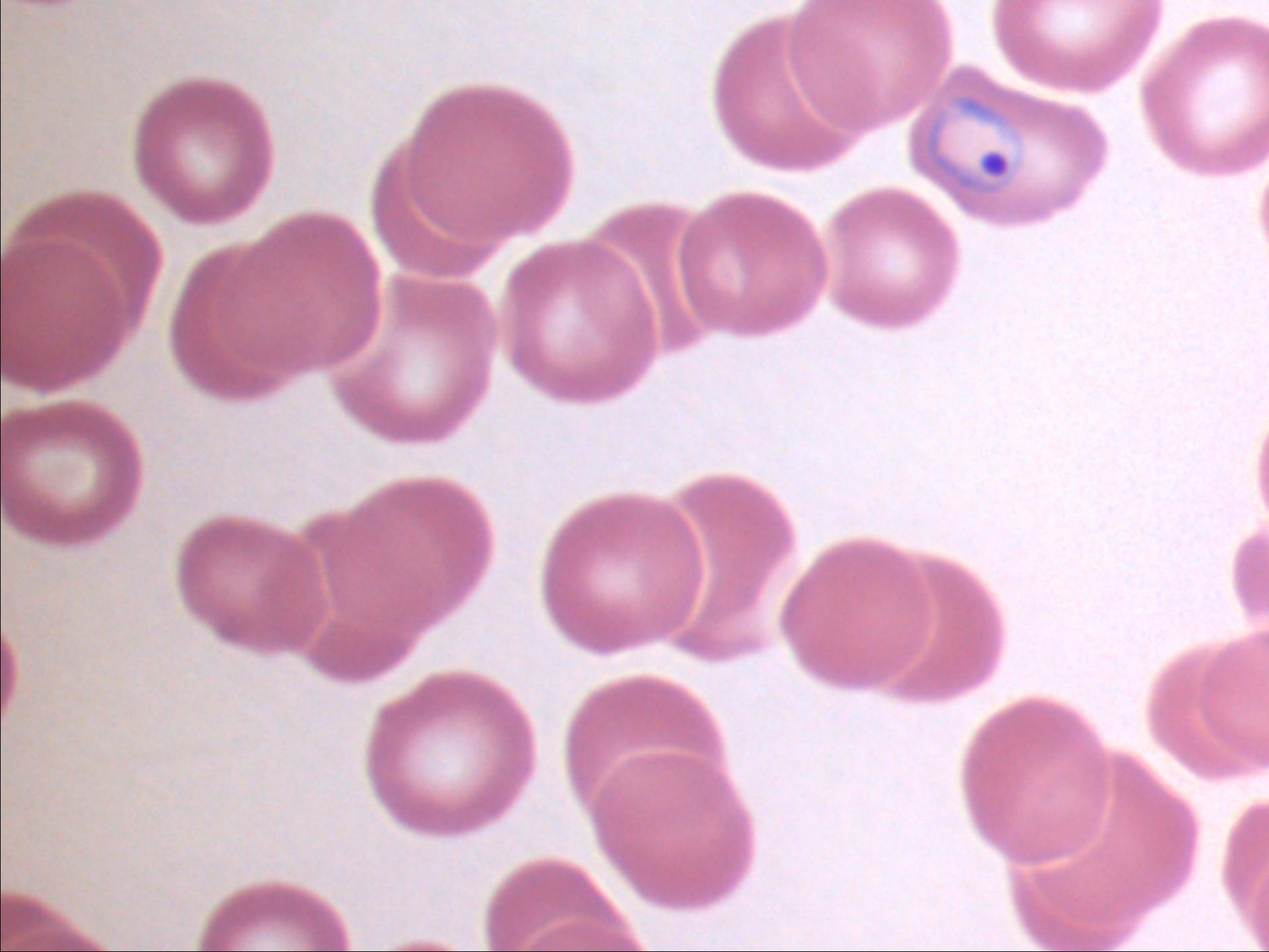Infected: (912, 65, 1103, 225)
Uninfected: (301, 478, 492, 676), (178, 215, 377, 395), (1003, 760, 1192, 948), (380, 87, 571, 268), (367, 671, 533, 835), (340, 277, 501, 444), (964, 700, 1121, 864), (1, 220, 152, 387), (546, 494, 705, 651), (665, 472, 798, 654), (594, 749, 750, 902), (505, 240, 656, 398), (782, 542, 933, 693), (566, 675, 730, 814), (681, 192, 826, 334), (716, 18, 851, 170), (0, 402, 144, 543), (180, 518, 323, 656), (136, 78, 274, 221), (1144, 15, 1269, 167), (872, 556, 999, 702), (826, 188, 956, 325), (597, 205, 701, 355), (371, 149, 451, 274)
